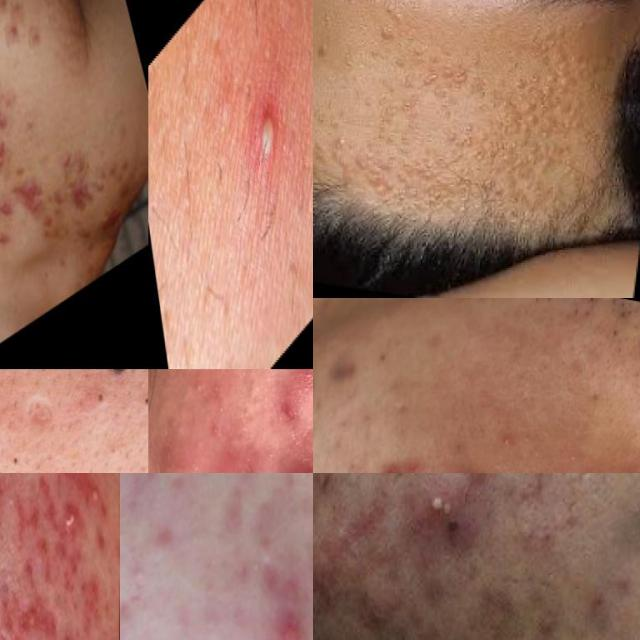acne_scars: (317, 334, 369, 405), (21, 389, 60, 447), (498, 414, 521, 458)
comedone: (72, 375, 116, 426), (0, 436, 35, 473), (128, 375, 148, 427), (243, 543, 264, 582), (132, 553, 150, 587), (3, 369, 38, 383)
cystic: (366, 566, 401, 640)
flat_wart: (486, 101, 574, 191), (313, 131, 400, 206), (510, 45, 599, 117), (404, 111, 484, 181), (409, 55, 488, 105)
folliculitis: (244, 68, 288, 190), (89, 473, 104, 508)
keloid: (5, 126, 100, 259), (0, 217, 15, 273), (0, 182, 18, 226), (0, 65, 9, 125)
papule: (368, 444, 425, 473), (436, 443, 488, 473), (272, 613, 309, 640), (158, 518, 179, 562)
sebo-crystan-conglo: (424, 495, 478, 568), (60, 501, 80, 543)
